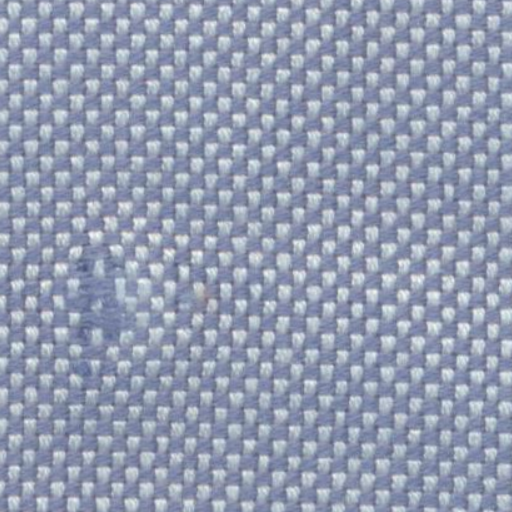DaiSha: (50, 231, 136, 390)
